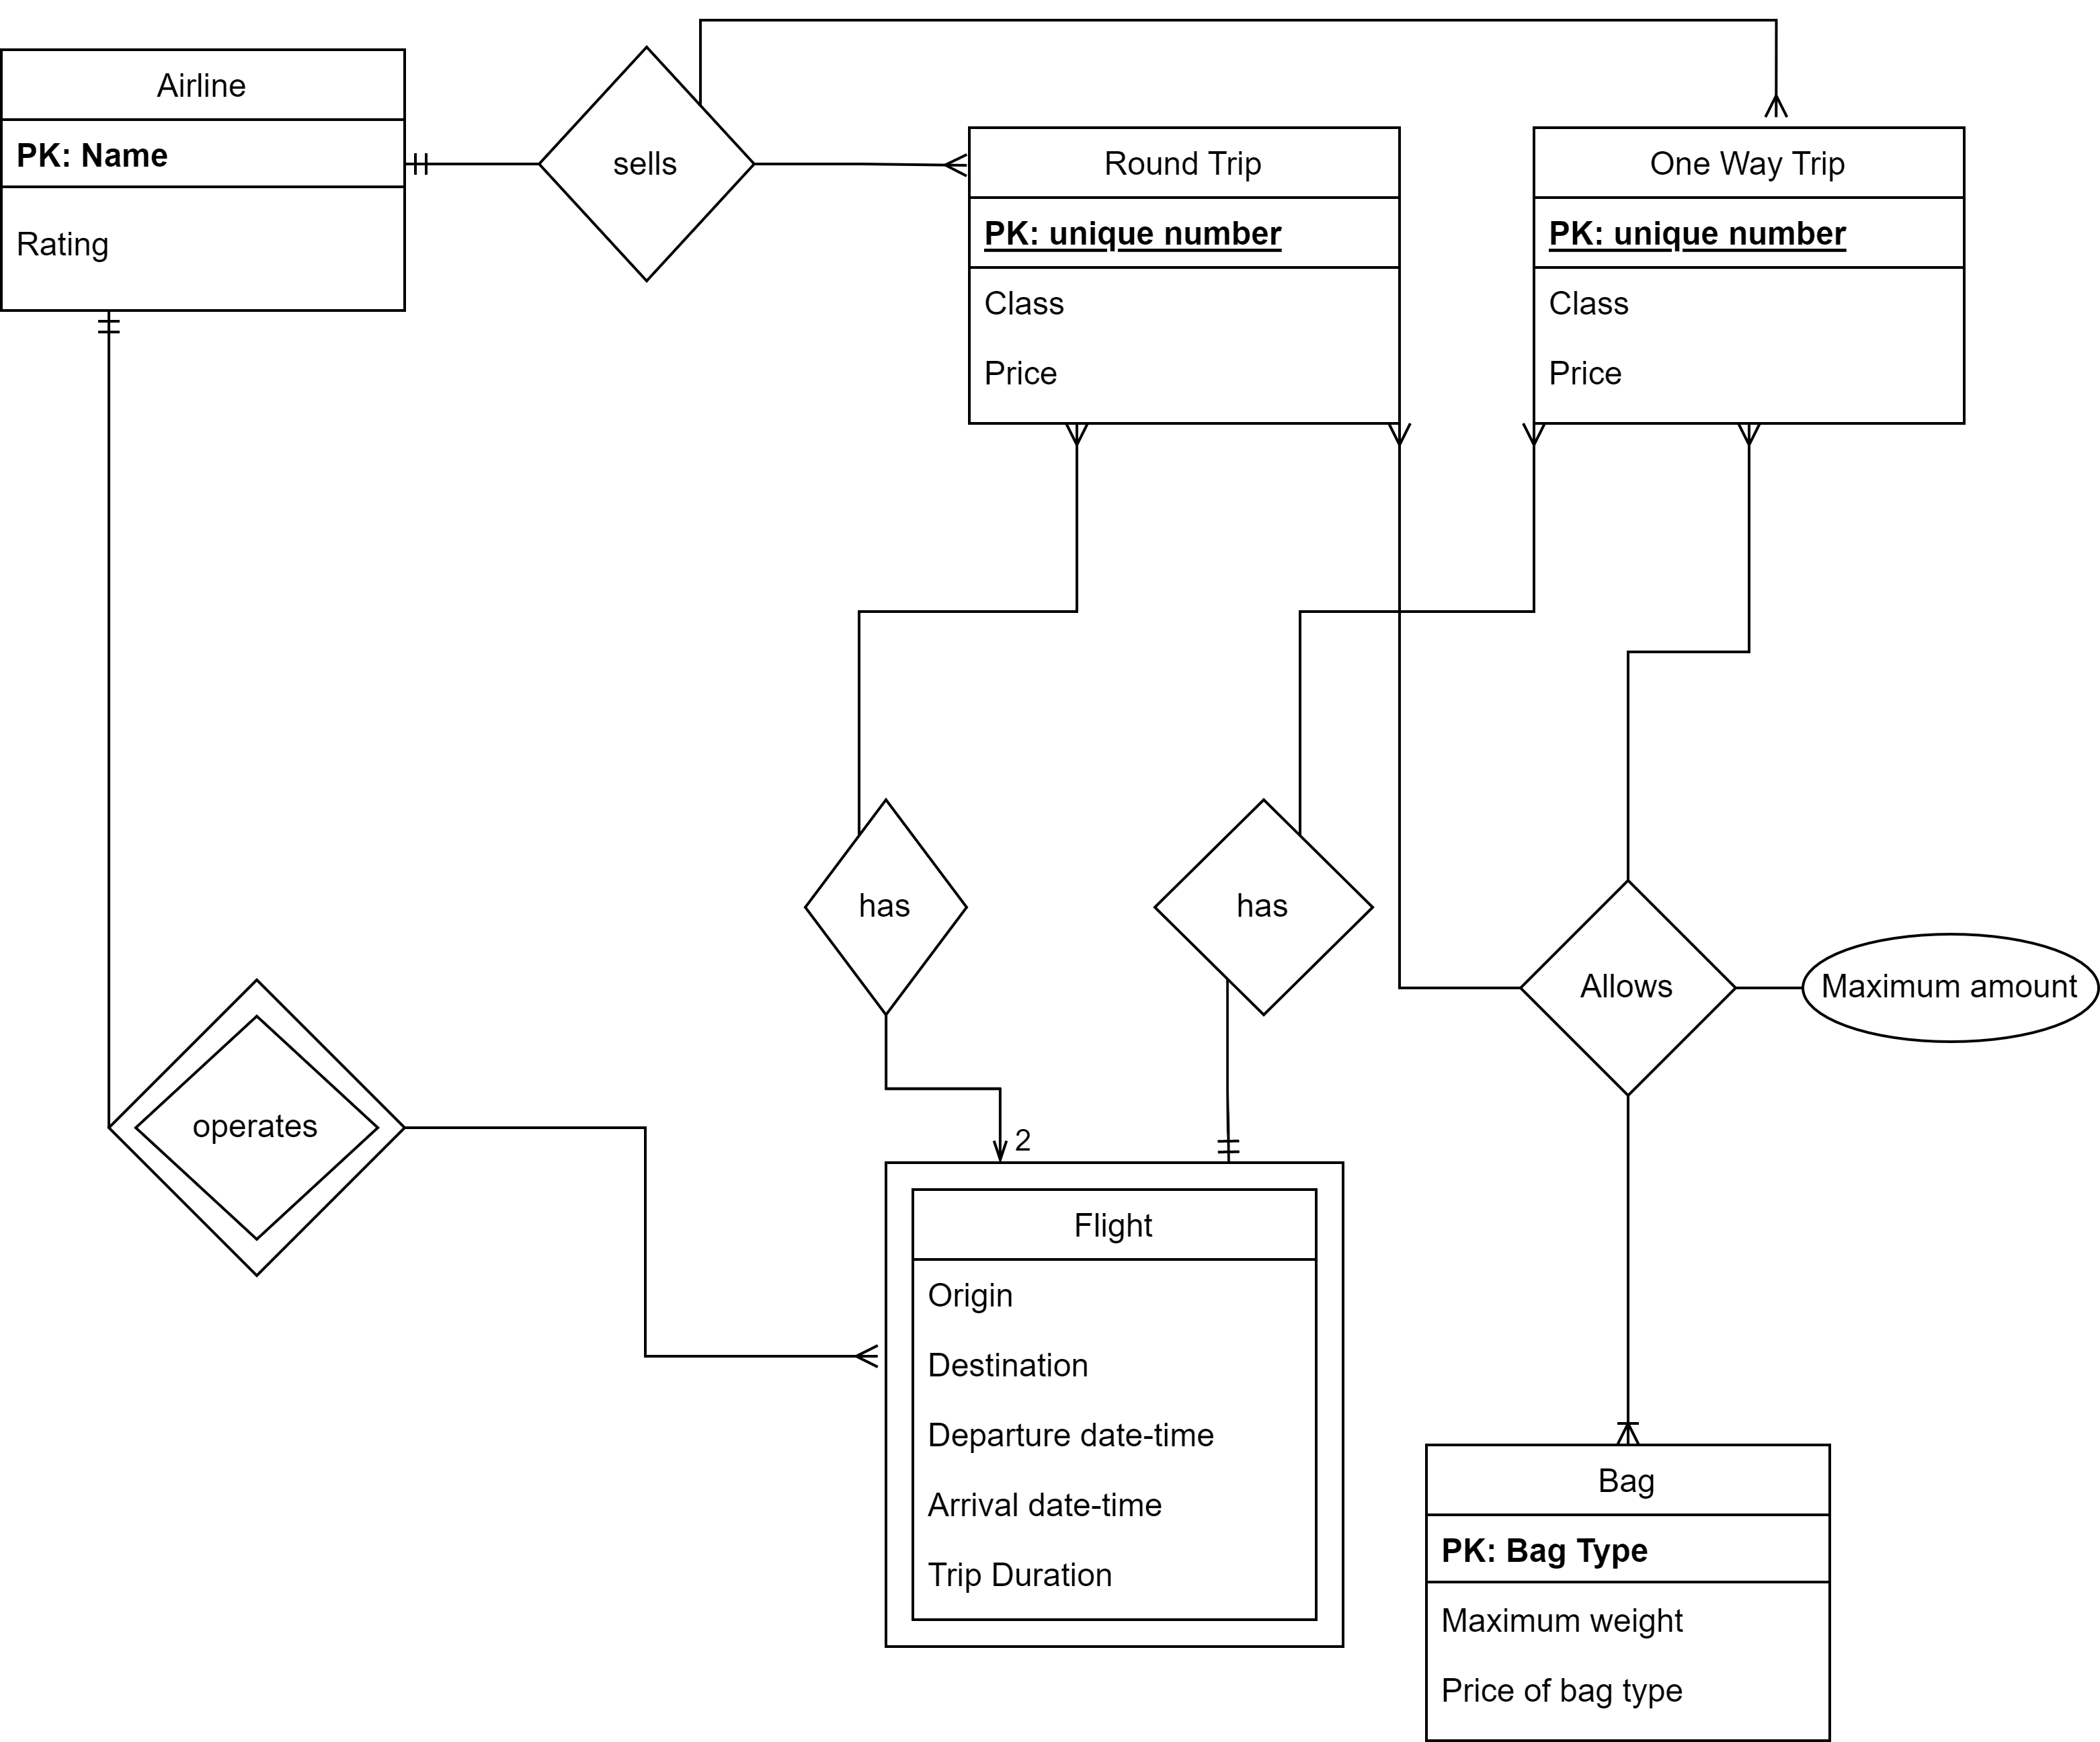entity: (1533, 126, 1964, 425), (970, 127, 1404, 424), (1425, 1442, 1826, 1742), (0, 54, 405, 312)
many: (837, 1320, 888, 1393), (1596, 1405, 1664, 1447), (931, 139, 972, 194), (1517, 413, 1561, 460), (1723, 420, 1779, 455), (1753, 89, 1805, 126), (1053, 418, 1097, 450), (1380, 422, 1423, 453)
one: (84, 305, 152, 361), (401, 139, 453, 192), (1205, 1130, 1258, 1160)
rel: (535, 44, 750, 288), (1149, 795, 1378, 1018), (1523, 881, 1735, 1093), (806, 799, 970, 1018)
rel_attr: (1800, 928, 2100, 1051)
weak_entity: (886, 1161, 1343, 1648), (106, 978, 403, 1282)
